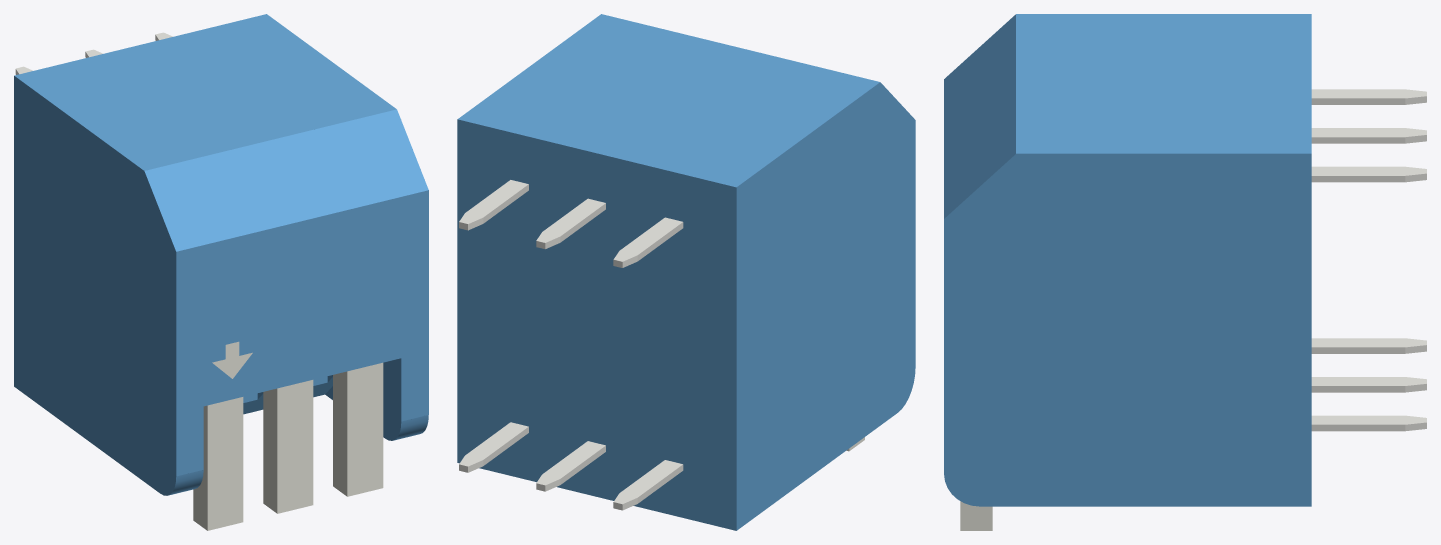
The model's file is SW_DIP_SPSTx03_Piano_10.8x9.18mm_W7.62mm_P2.54mm.glb.
3 renders of one model, left to right at view 1: azimuth 30°, elevation 25°; view 2: azimuth 150°, elevation 25°; view 3: azimuth 270°, elevation 25°, orthographic. The views are drawn at different scales.
Parts seen in each view (by area): view 1: Shape_IndexedFaceSet.008, Shape_IndexedFaceSet.001, Shape_IndexedFaceSet.005, Shape_IndexedFaceSet.003, Shape_IndexedFaceSet.041, Shape_IndexedFaceSet.051, Shape_IndexedFaceSet.044, Shape_IndexedFaceSet.043, Shape_IndexedFaceSet.052, Shape_IndexedFaceSet.007, Shape_IndexedFaceSet.042, Shape_IndexedFaceSet.012 (+3 smaller); view 2: Shape_IndexedFaceSet.006, Shape_IndexedFaceSet.008, Shape_IndexedFaceSet.005, Shape_IndexedFaceSet.037, Shape_IndexedFaceSet.015, Shape_IndexedFaceSet.022, Shape_IndexedFaceSet.033, Shape_IndexedFaceSet.021, Shape_IndexedFaceSet.029; view 3: Shape_IndexedFaceSet, Shape_IndexedFaceSet.005, Shape_IndexedFaceSet.003, Shape_IndexedFaceSet.022, Shape_IndexedFaceSet.029, Shape_IndexedFaceSet.037, Shape_IndexedFaceSet.015, Shape_IndexedFaceSet.021, Shape_IndexedFaceSet.033, Shape_IndexedFaceSet.039, Shape_IndexedFaceSet.036, Shape_IndexedFaceSet.020 (+4 smaller).
Part boxes in pixels (box(x1,y1,x2,y2)): Shape_IndexedFaceSet.008: box(14, 76, 176, 495); Shape_IndexedFaceSet.001: box(176, 190, 428, 476); Shape_IndexedFaceSet.005: box(14, 14, 396, 170); Shape_IndexedFaceSet.003: box(144, 109, 428, 251); Shape_IndexedFaceSet.041: box(347, 362, 383, 496); Shape_IndexedFaceSet.051: box(277, 380, 313, 513); Shape_IndexedFaceSet.044: box(207, 397, 243, 530); Shape_IndexedFaceSet.043: box(333, 371, 347, 496); Shape_IndexedFaceSet.052: box(263, 388, 277, 513); Shape_IndexedFaceSet.007: box(325, 358, 401, 440); Shape_IndexedFaceSet.042: box(193, 405, 207, 530); Shape_IndexedFaceSet.012: box(212, 341, 252, 378); Shape_IndexedFaceSet.006: box(457, 119, 736, 530); Shape_IndexedFaceSet.008: box(736, 82, 915, 530); Shape_IndexedFaceSet.005: box(458, 14, 879, 187); Shape_IndexedFaceSet.037: box(459, 422, 528, 466); Shape_IndexedFaceSet.015: box(459, 180, 528, 223); Shape_IndexedFaceSet.022: box(613, 217, 682, 261); Shape_IndexedFaceSet.033: box(536, 441, 605, 485); Shape_IndexedFaceSet.021: box(536, 198, 605, 242); Shape_IndexedFaceSet.029: box(614, 460, 682, 504); Shape_IndexedFaceSet: box(944, 153, 1311, 506); Shape_IndexedFaceSet.005: box(1016, 14, 1311, 153); Shape_IndexedFaceSet.003: box(944, 14, 1015, 218); Shape_IndexedFaceSet.022: box(1311, 89, 1426, 98); Shape_IndexedFaceSet.029: box(1311, 338, 1426, 347); Shape_IndexedFaceSet.037: box(1311, 415, 1426, 424); Shape_IndexedFaceSet.015: box(1311, 166, 1426, 175); Shape_IndexedFaceSet.021: box(1311, 128, 1426, 137); Shape_IndexedFaceSet.033: box(1311, 377, 1426, 385); Shape_IndexedFaceSet.039: box(960, 501, 992, 530); Shape_IndexedFaceSet.036: box(1311, 424, 1405, 431); Shape_IndexedFaceSet.020: box(1311, 137, 1405, 143).
Size of the model in its own units: 3.61 by 4.8 by 5.28.
